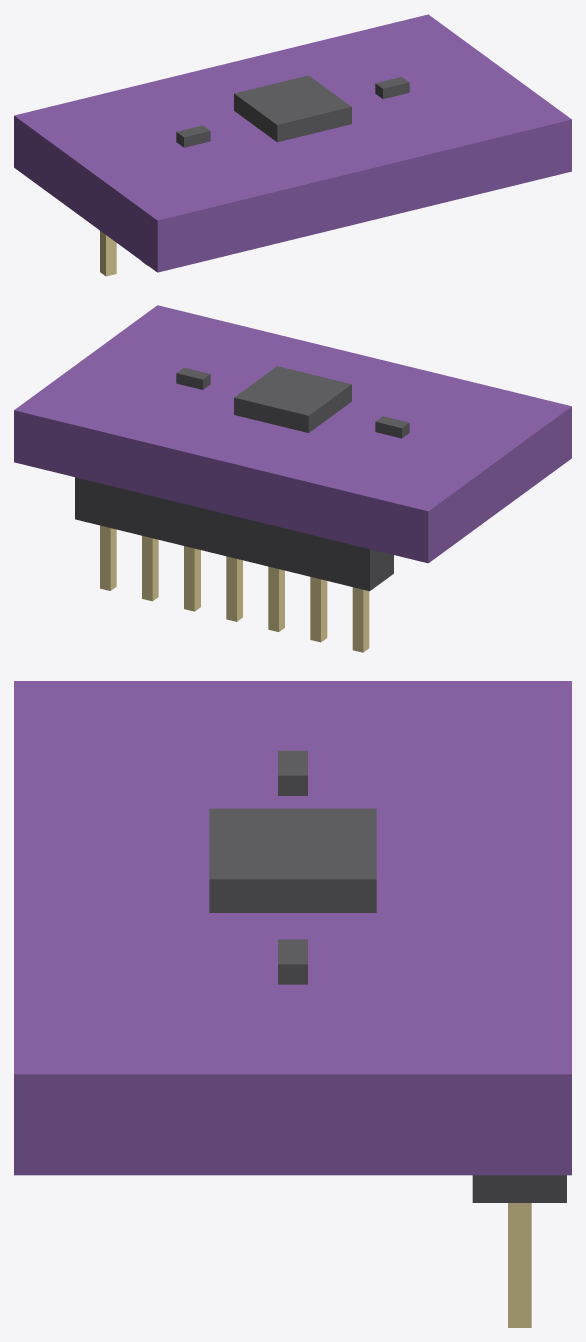
File: icm20948.glb
The picture shows the model from 3 angles, top to bottom: view 1: azimuth 30°, elevation 25°; view 2: azimuth 150°, elevation 25°; view 3: azimuth 270°, elevation 25°; orthographic projection. The views are drawn at different scales.
Visible parts, largest first — view 1: icm20948-pcb, icm20948-ic, icm20948-pins; view 2: icm20948-pcb, icm20948-plastic, icm20948-pins, icm20948-ic; view 3: icm20948-pcb, icm20948-ic, icm20948-pins, icm20948-plastic.
Boxes of the visible parts, <box> form: icm20948-pcb: <box>14,14,571,272</box>; icm20948-ic: <box>176,75,409,147</box>; icm20948-pins: <box>100,231,148,276</box>; icm20948-pcb: <box>14,305,571,563</box>; icm20948-plastic: <box>75,477,393,591</box>; icm20948-pins: <box>100,525,369,652</box>; icm20948-ic: <box>176,366,409,438</box>; icm20948-pcb: <box>14,681,571,1175</box>; icm20948-ic: <box>209,750,376,984</box>; icm20948-pins: <box>508,1203,531,1327</box>; icm20948-plastic: <box>472,1175,566,1202</box>.
Bounding box in the file's own units: 0.025 × 0.0107 × 0.015.
